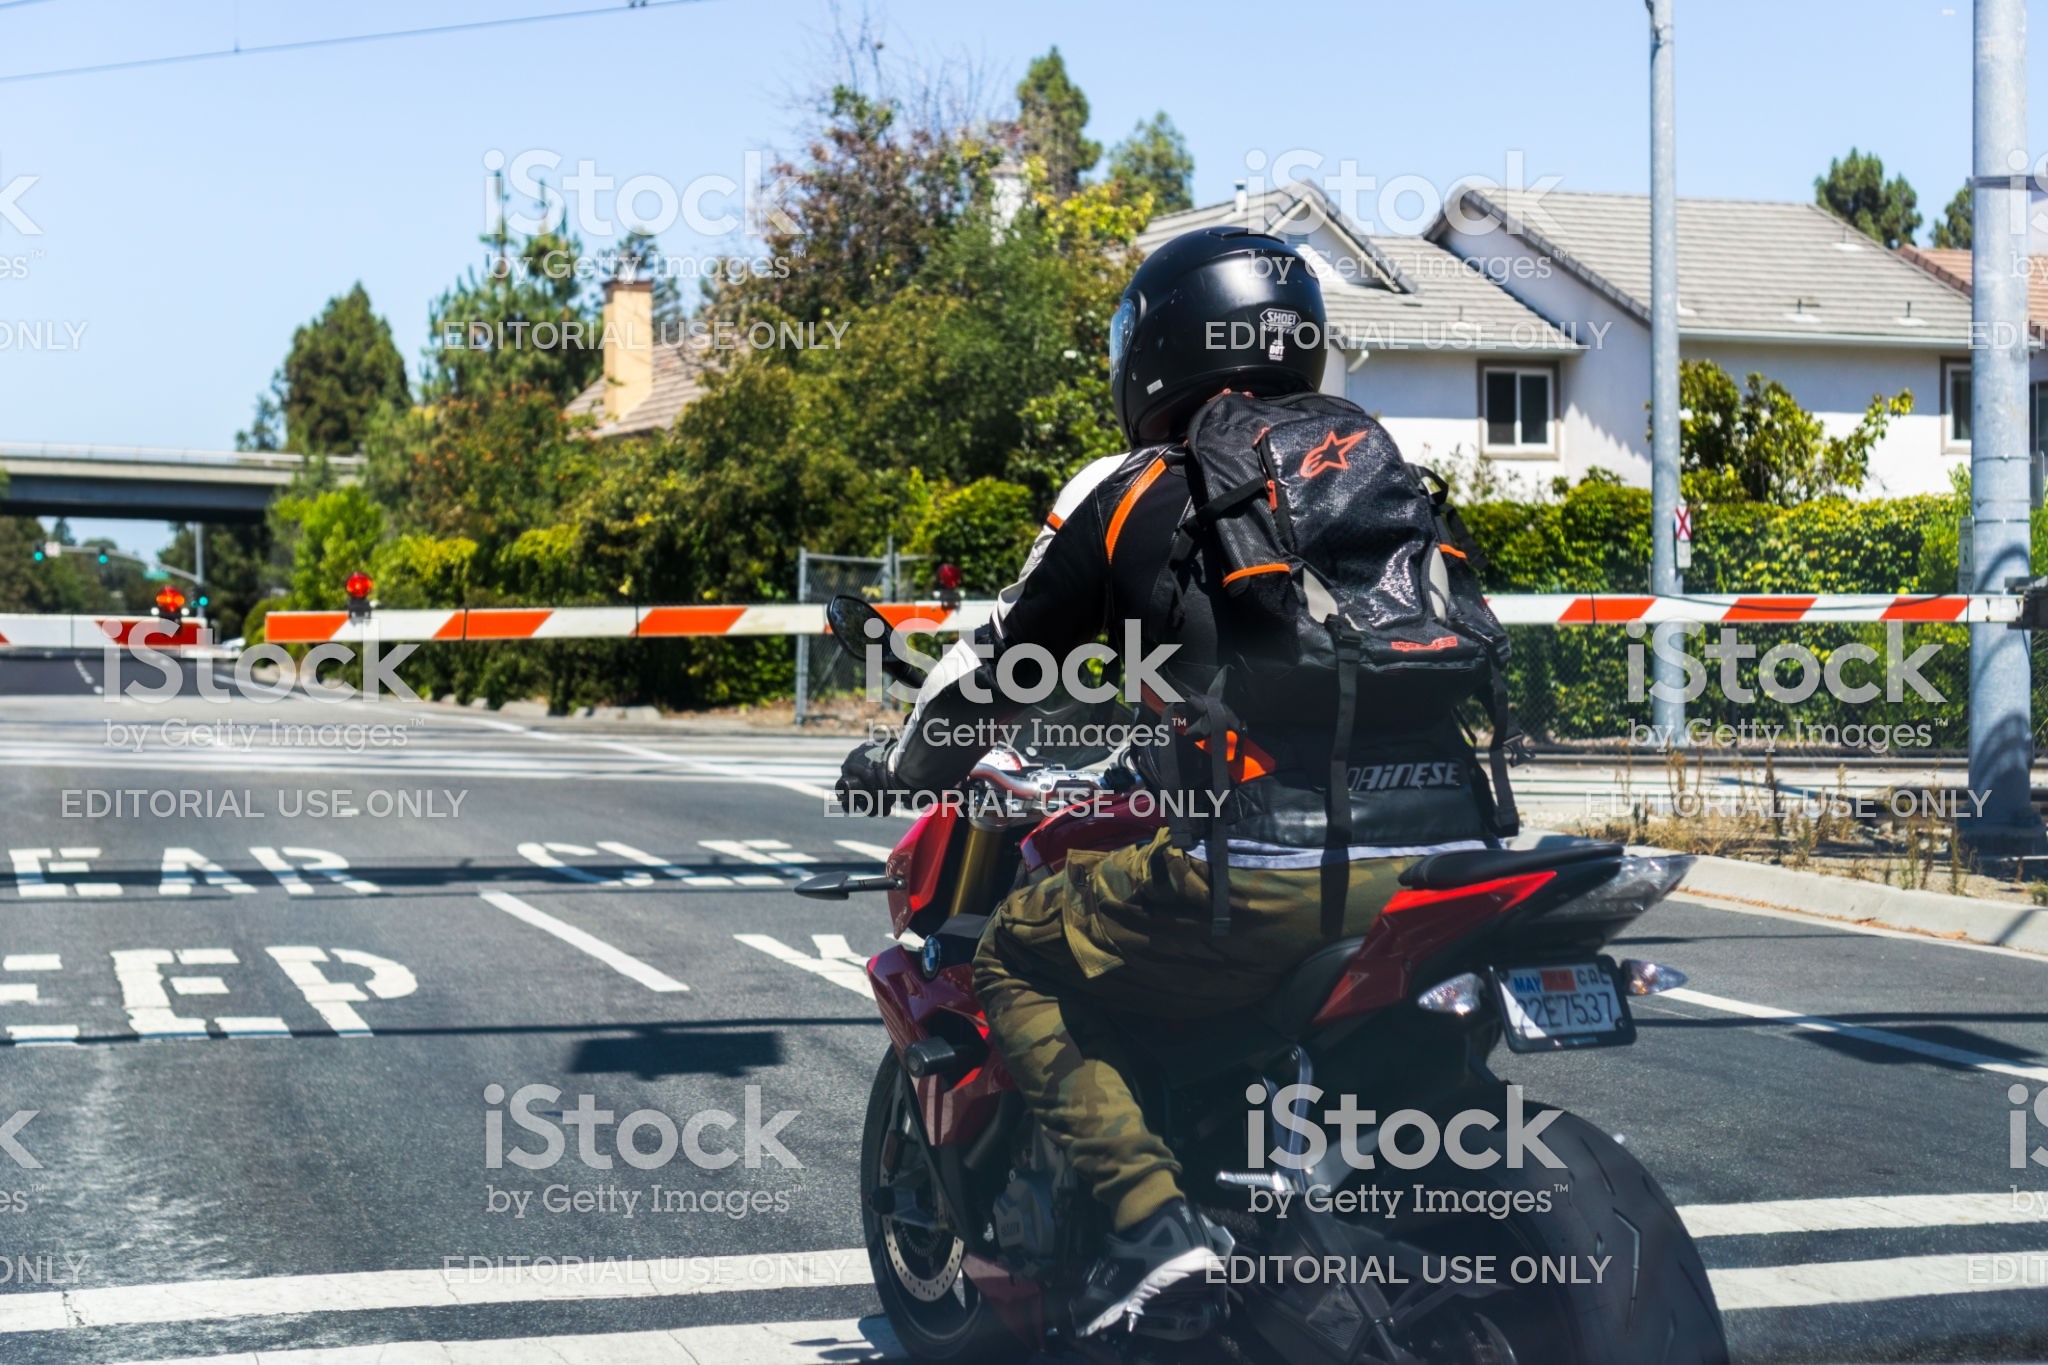helmet: (1077, 215, 1319, 419)
